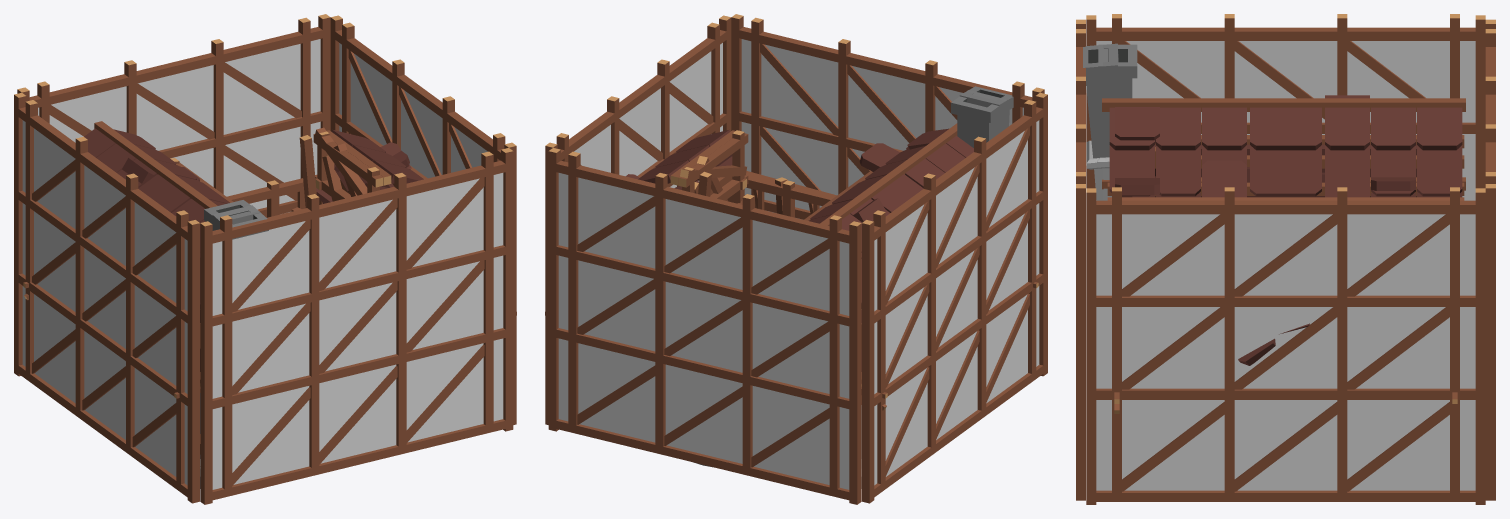
The model's file is Barracks.fbx.
3 renders of one model, left to right at view 1: azimuth 30°, elevation 25°; view 2: azimuth 150°, elevation 25°; view 3: azimuth 270°, elevation 25°, orthographic. The views are drawn at different scales.
Visible parts, largest first — view 1: Scaffold, Carcass, Roof, Destruction_phase_1, Destruction_phase_3, Destruction_phase_2; view 2: Scaffold, Carcass, Roof, Destruction_phase_1, Destruction_phase_3, Destruction_phase_2; view 3: Scaffold, Roof, Carcass, Destruction_phase_3, Destruction_phase_1, Destruction_phase_2.
Part boxes in pixels (x1,y1,x2,y2): Scaffold: (14, 14, 516, 504); Carcass: (94, 121, 394, 454); Roof: (84, 128, 423, 308); Destruction_phase_1: (122, 127, 409, 239); Destruction_phase_3: (24, 135, 332, 299); Destruction_phase_2: (322, 142, 411, 201); Scaffold: (545, 14, 1047, 504); Carcass: (667, 90, 1007, 404); Roof: (638, 129, 973, 308); Destruction_phase_1: (626, 86, 1013, 221); Destruction_phase_3: (698, 143, 899, 410); Destruction_phase_2: (674, 128, 948, 201); Scaffold: (1076, 14, 1495, 504); Roof: (1109, 107, 1462, 196); Carcass: (1097, 44, 1465, 200); Destruction_phase_3: (1107, 147, 1464, 413); Destruction_phase_1: (1083, 43, 1415, 200); Destruction_phase_2: (1102, 107, 1465, 365).
Bounding box in the file's own units: 4.3 × 3.39 × 4.1.
